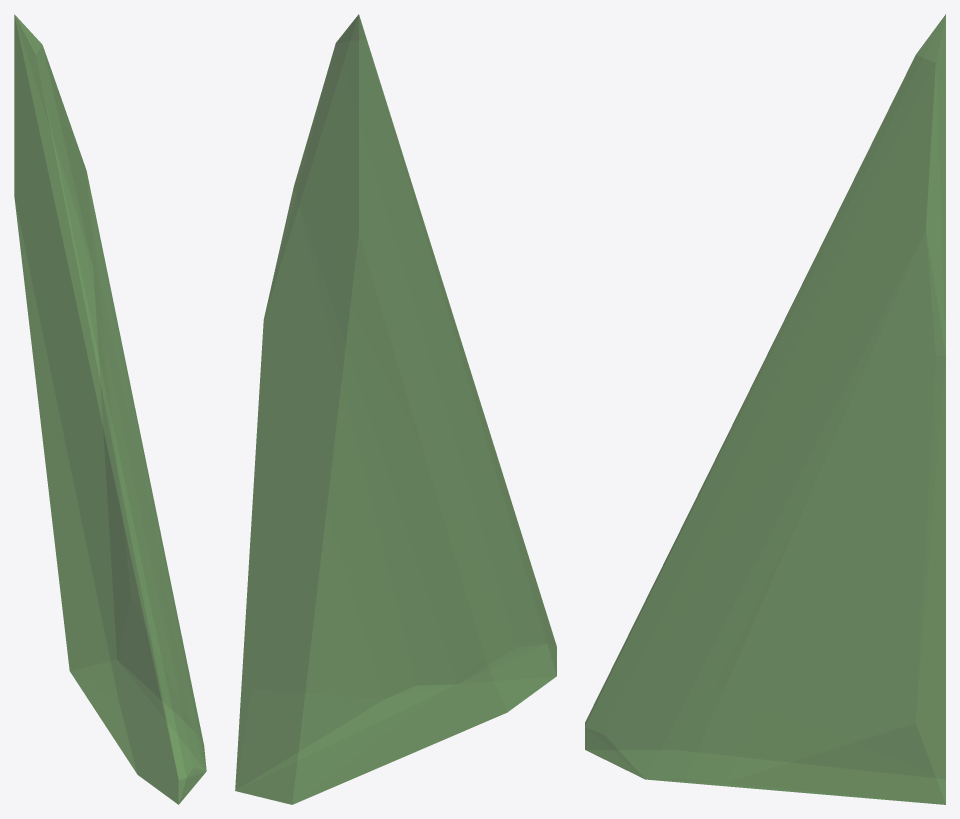
3 renders of one model, left to right at view 1: azimuth 30°, elevation 25°; view 2: azimuth 150°, elevation 25°; view 3: azimuth 270°, elevation 25°, orthographic. The views are drawn at different scales.
Parts seen in each view (by area): view 1: Shape_IndexedFaceSet.055_Shape_IndexedFaceSet.7806; view 2: Shape_IndexedFaceSet.055_Shape_IndexedFaceSet.7806; view 3: Shape_IndexedFaceSet.055_Shape_IndexedFaceSet.7806.
Part boxes in pixels (box(x1,y1,x2,y2)): Shape_IndexedFaceSet.055_Shape_IndexedFaceSet.7806: box(14, 14, 206, 804); Shape_IndexedFaceSet.055_Shape_IndexedFaceSet.7806: box(235, 14, 556, 804); Shape_IndexedFaceSet.055_Shape_IndexedFaceSet.7806: box(585, 14, 945, 804).
Bounding box in the file's own units: 0.0177 × 0.1106 × 0.0491.
